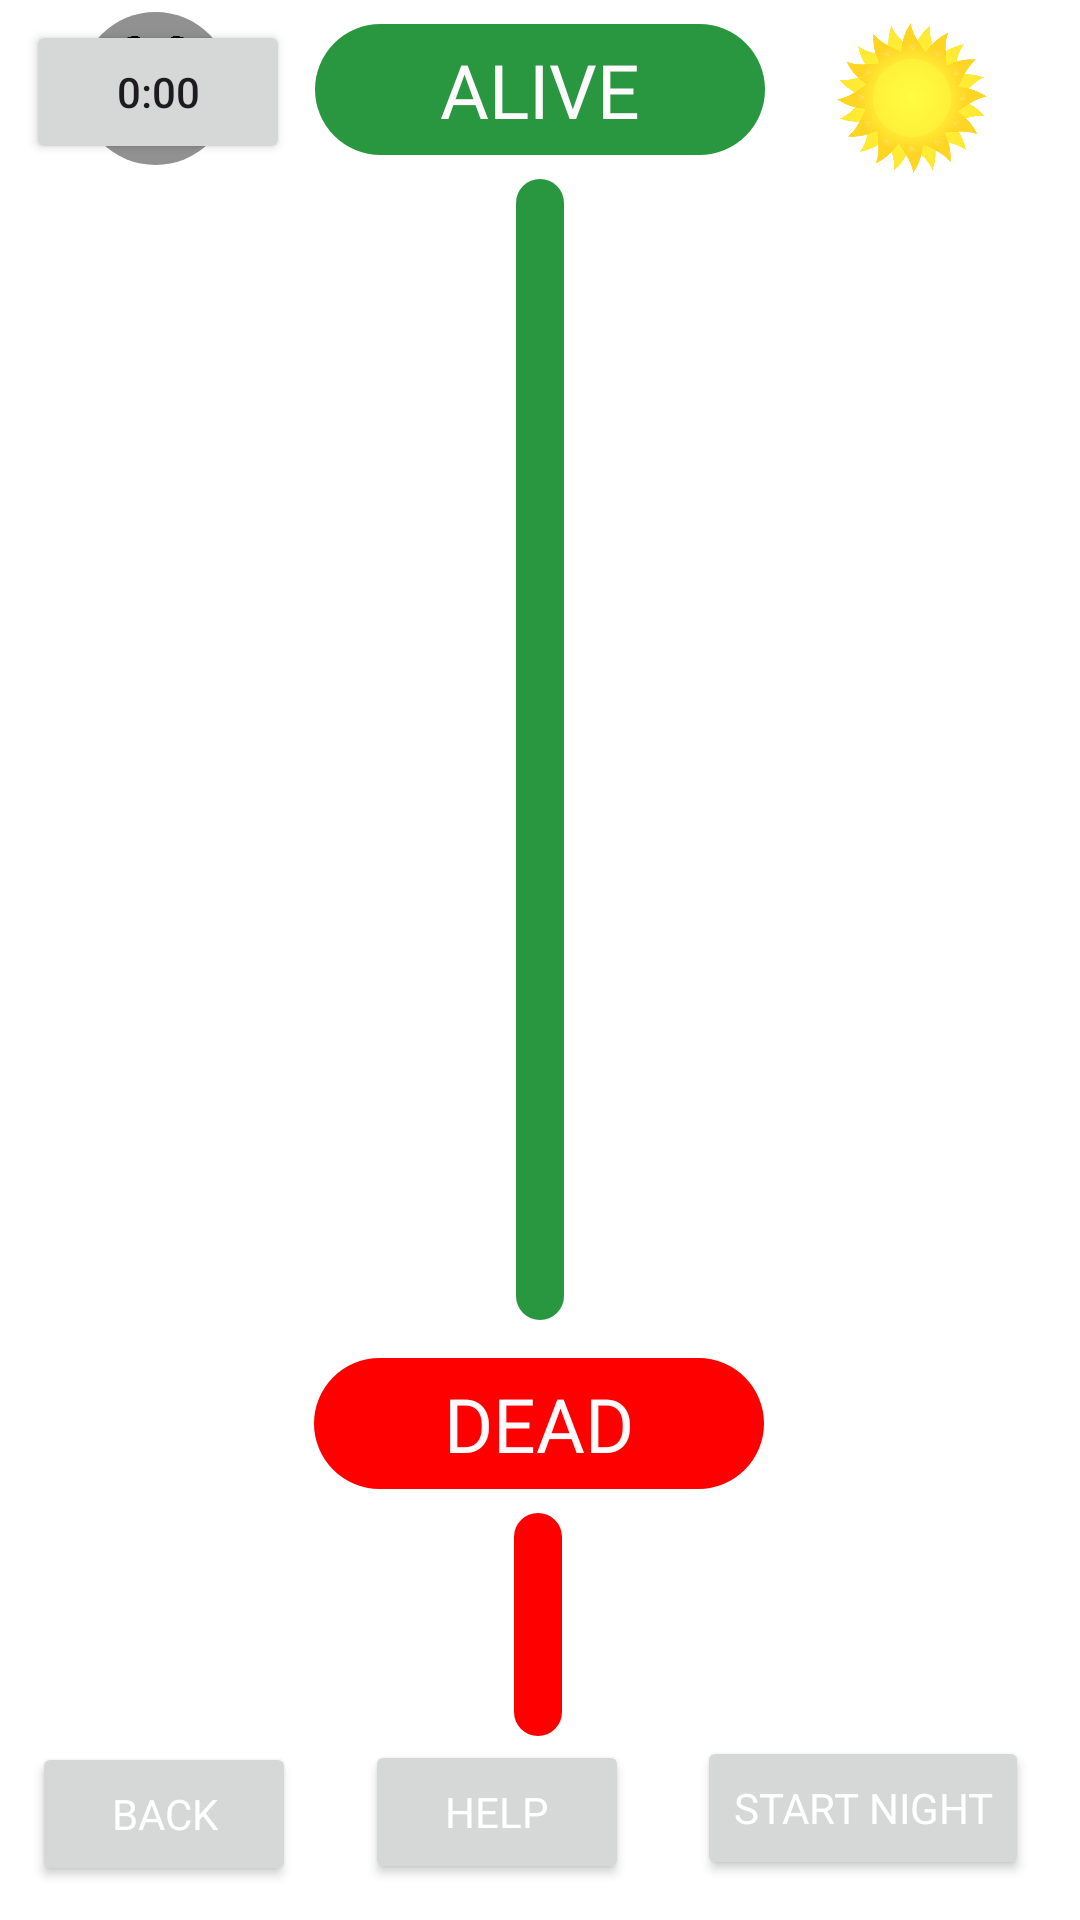

Icon bounding boxes for this 1080px x 1920px phone screenshot, format [x1, y1, x2, y2]:
sun: [837, 23, 987, 173]
